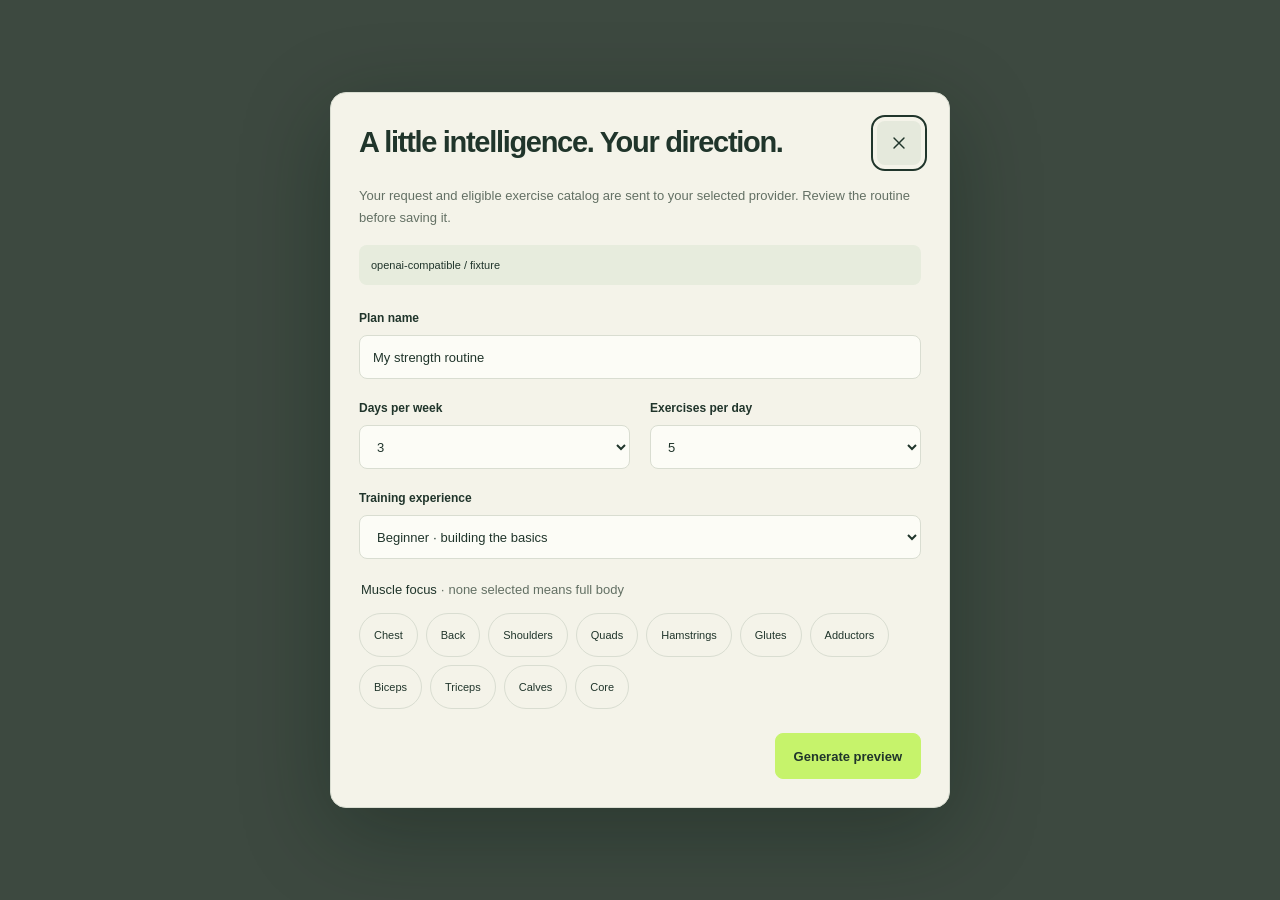
aborts generation and rejects a late response when cancelled
What coordinates should you click on to do the following:
click the button "Generate preview"
I would click on:
 (848, 756)
Its box is 775,733 -> 921,779.
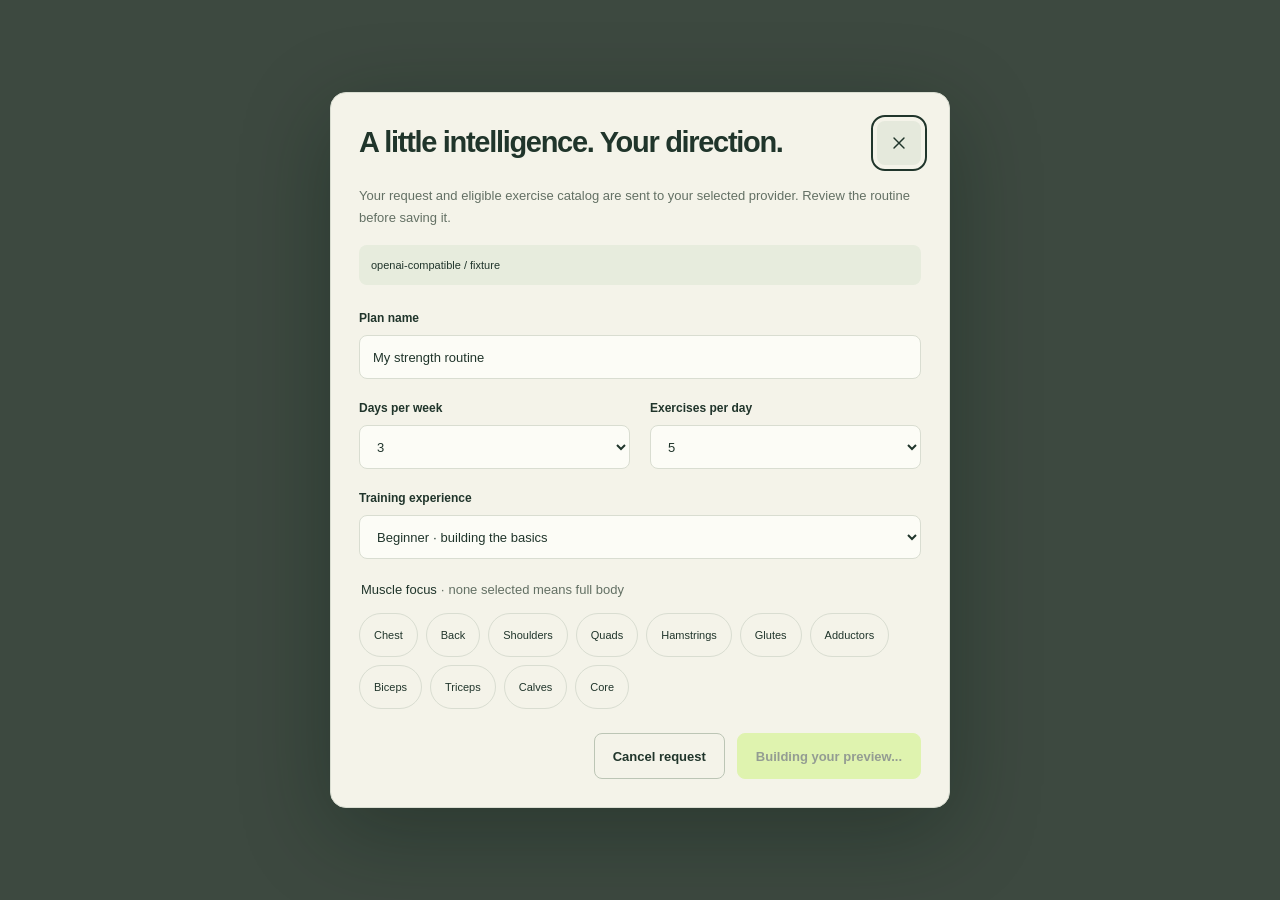
What coordinates should you click on to do the following:
click the button "Cancel request"
I would click on:
 (659, 756)
Its box is 594,733 -> 725,779.
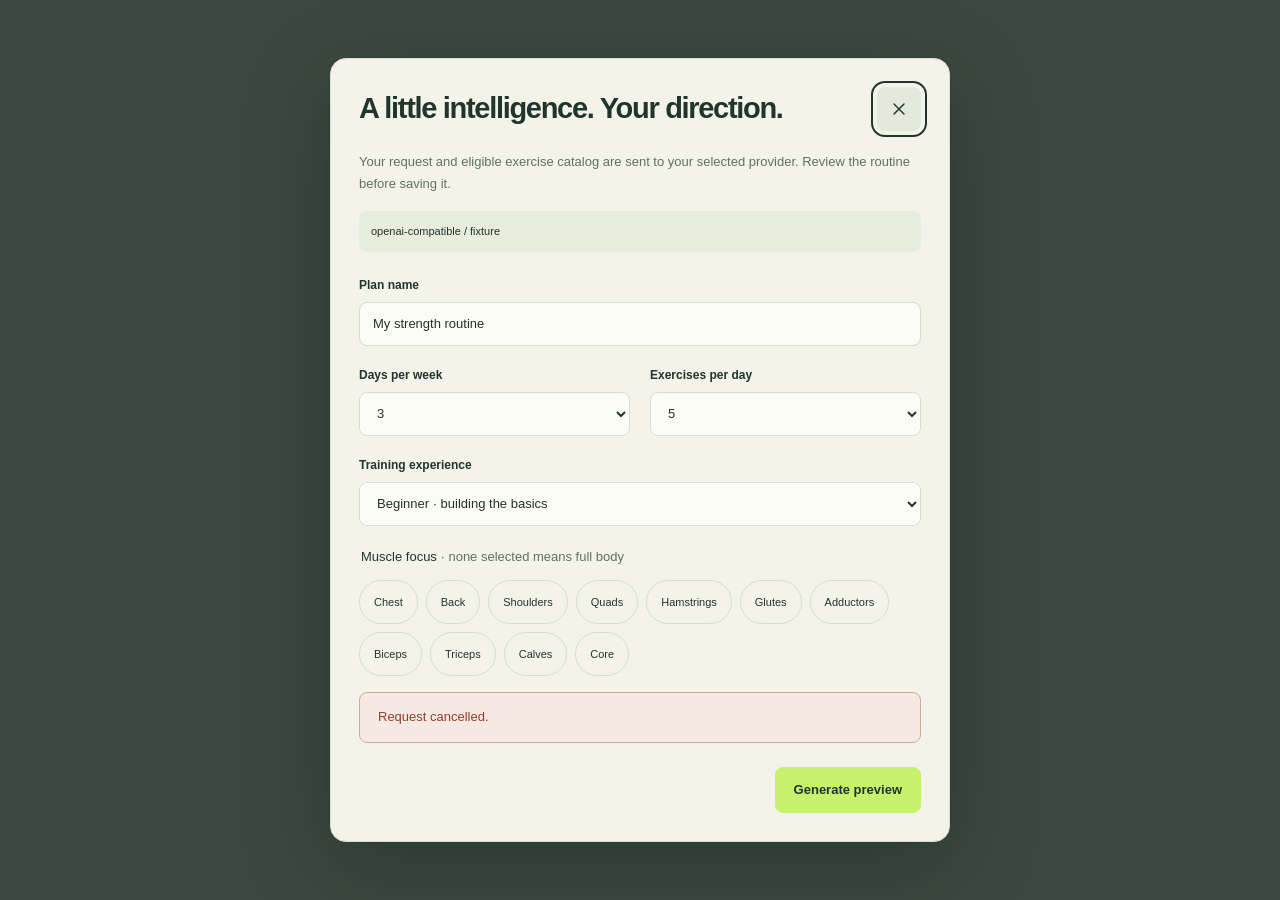
expect the button "Generate preview" is enabled: met, box 775,767 -> 921,813
